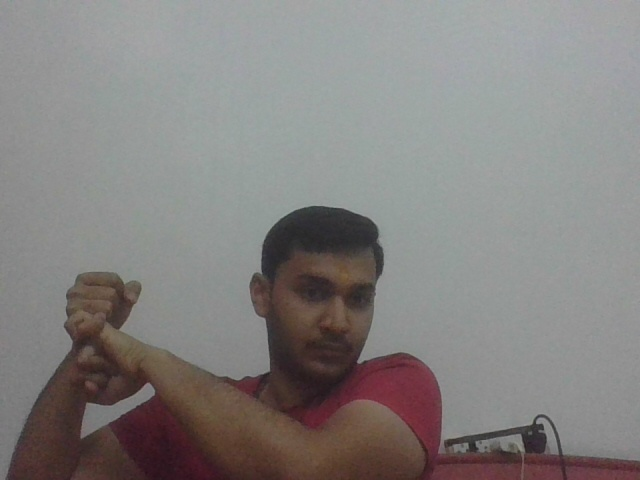S: (48, 263, 160, 410)
